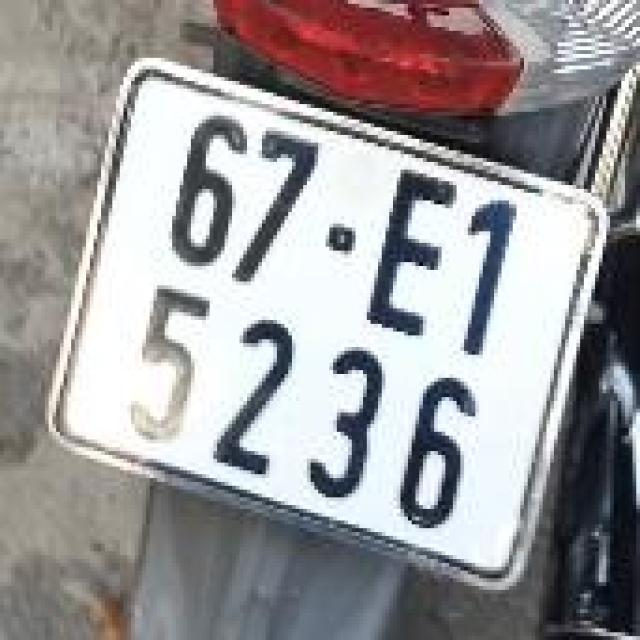1: (439, 184, 538, 369)
2: (202, 303, 314, 487)
3: (296, 343, 405, 510)
5: (107, 268, 232, 452)
6: (382, 362, 499, 542), (155, 106, 257, 279)
7: (218, 116, 337, 301)
E: (353, 158, 473, 351)
